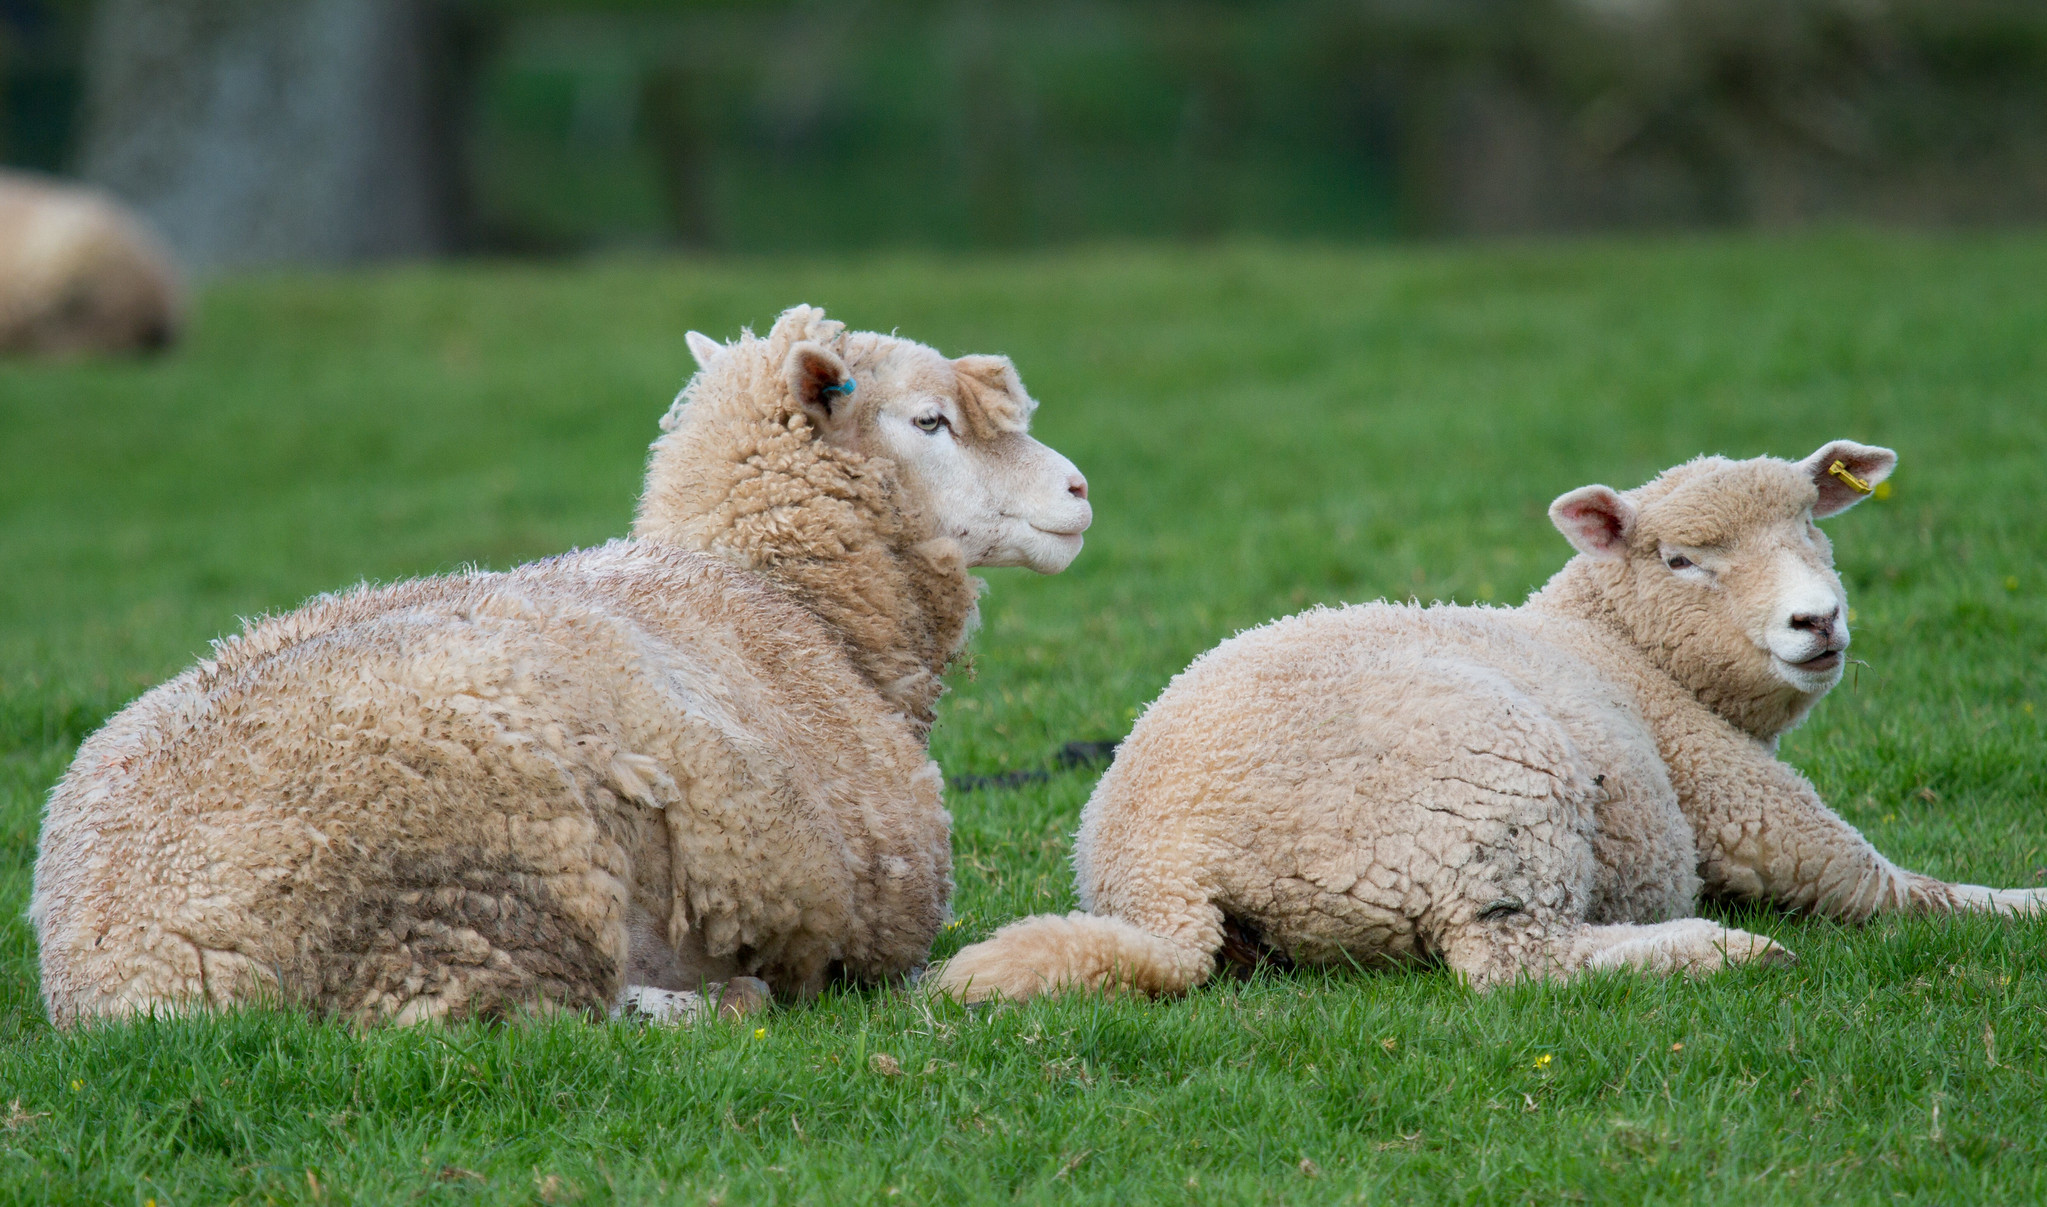sheep: (40, 326, 1097, 1068), (1008, 422, 1923, 1063)
